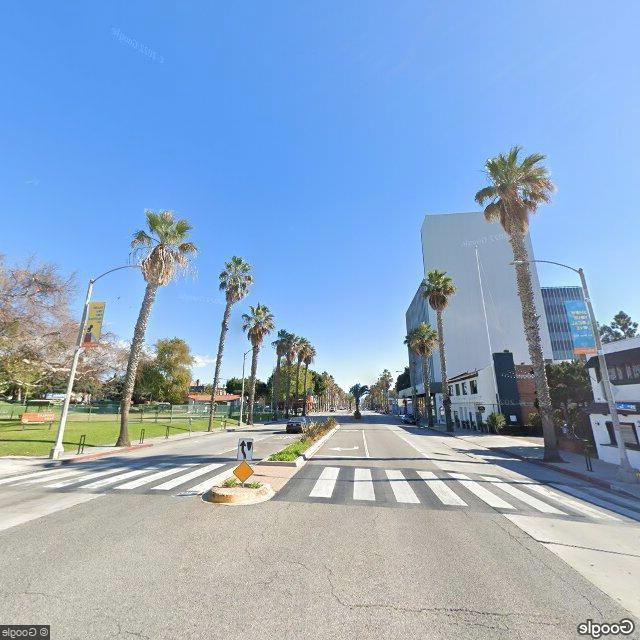crack: (328, 565, 561, 632), (245, 500, 290, 561), (2, 585, 72, 604)
